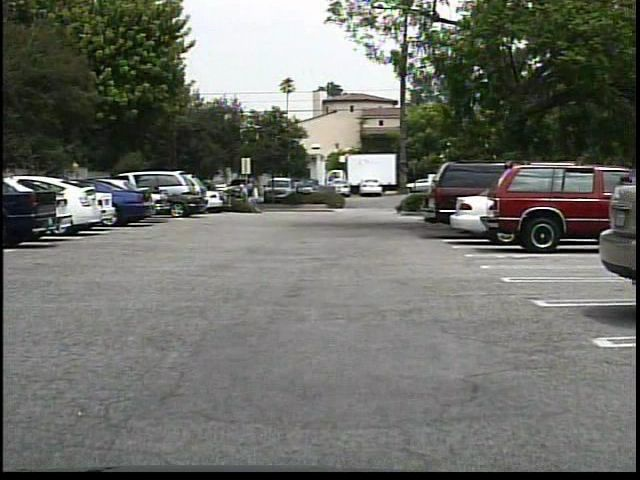person: (237, 181, 252, 210), (252, 182, 264, 212), (251, 185, 252, 215)
